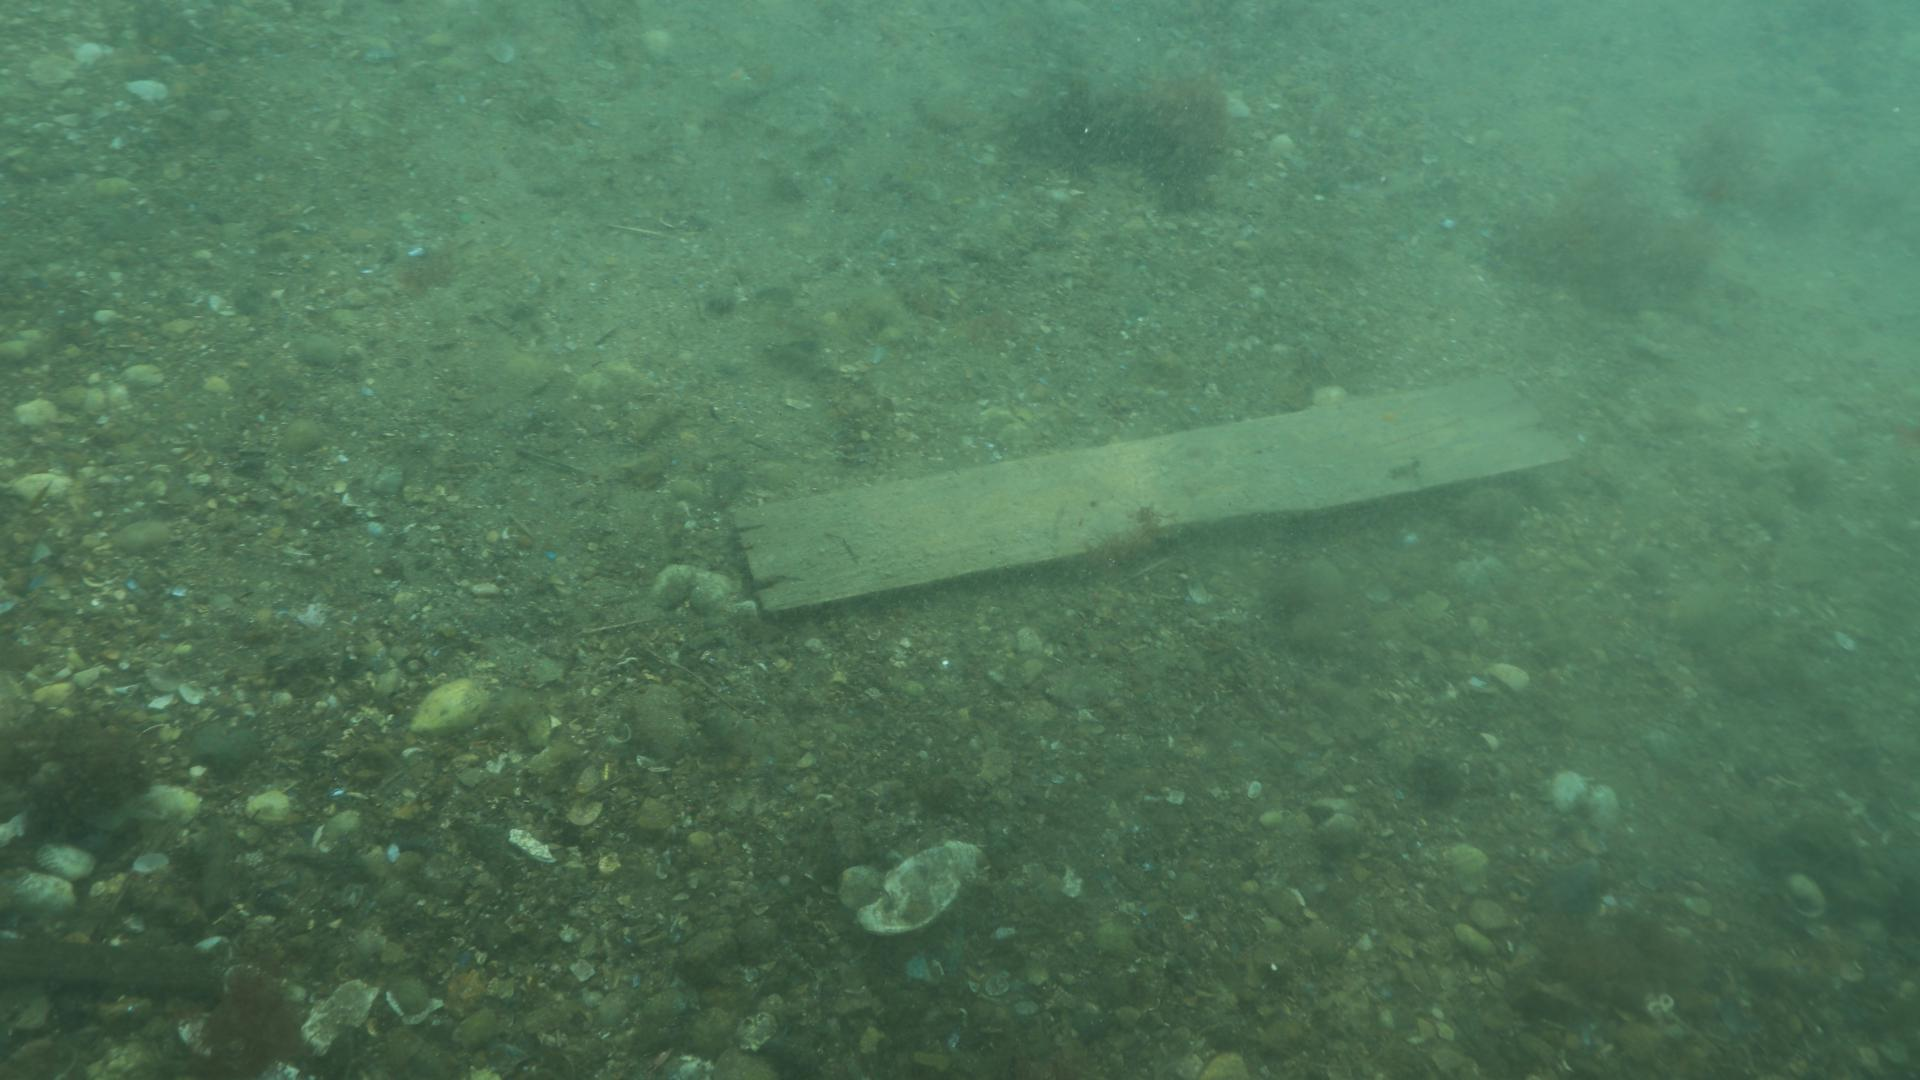wood: (727, 367, 1581, 626)
